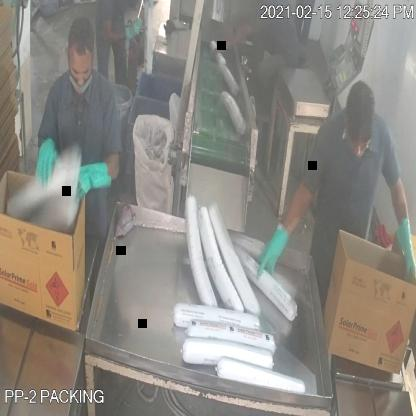glove: (256, 202, 298, 297), (72, 150, 118, 202), (394, 195, 416, 292), (33, 124, 60, 188)
no_glove: (212, 15, 255, 62)
